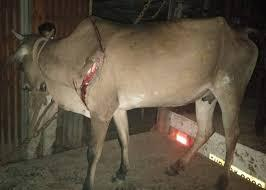cut: (69, 57, 112, 113)
